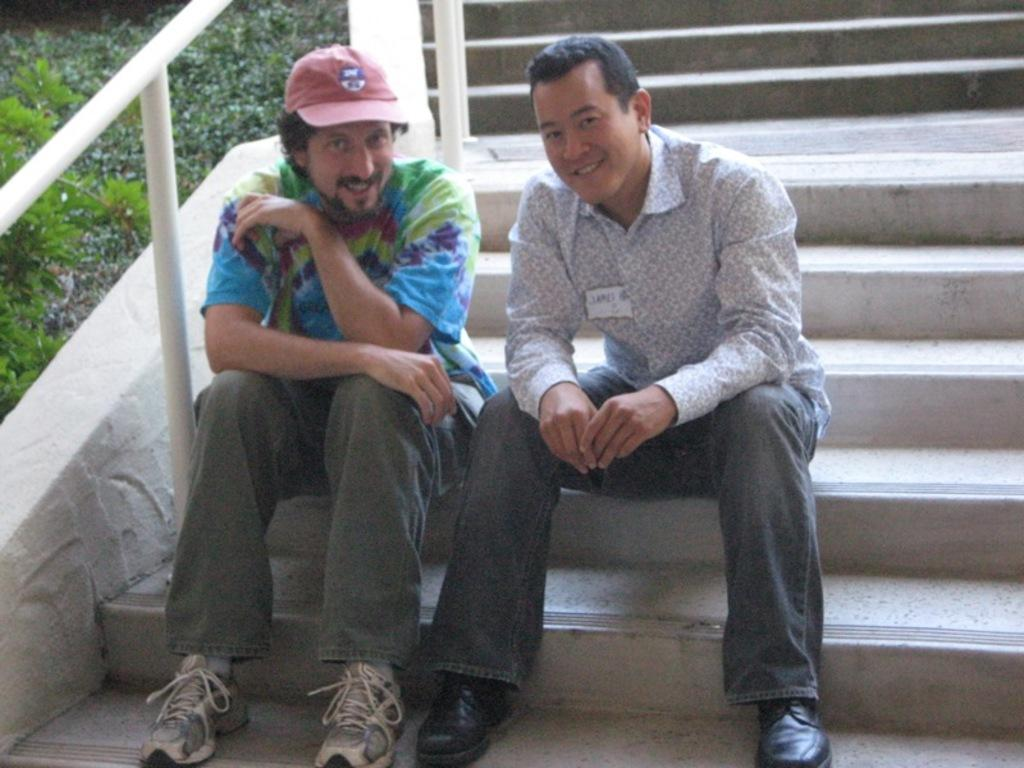Hat: (283, 45, 415, 123)
